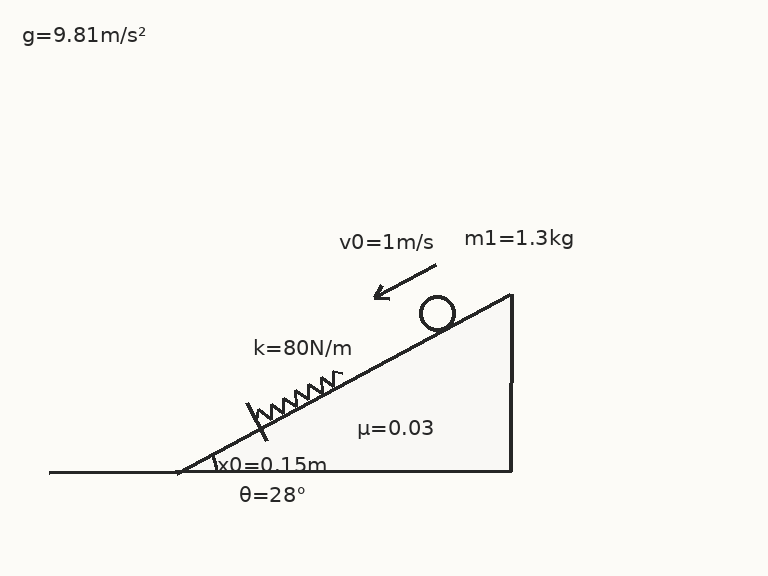ball: (417, 293, 457, 333)
ramp: (174, 292, 513, 474)
spring: (253, 368, 344, 422)
